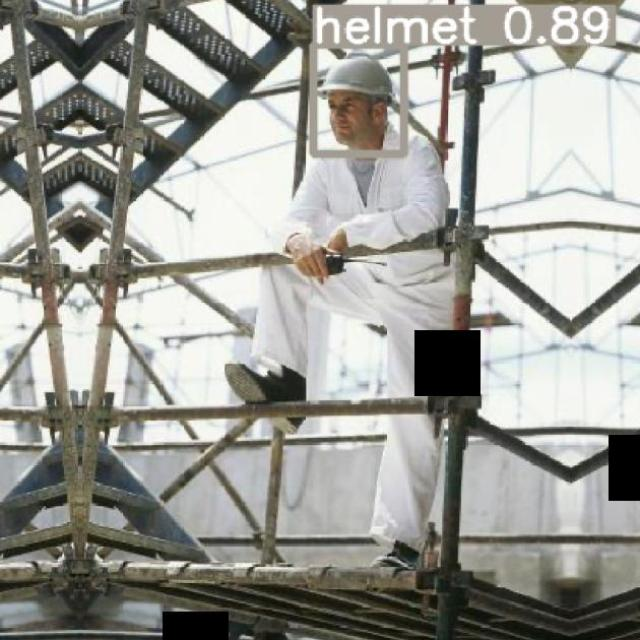helmet: (316, 56, 394, 99)
